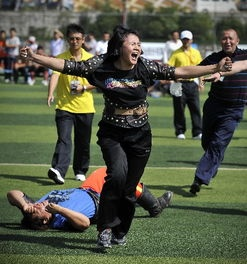falling: (6, 160, 180, 236)
